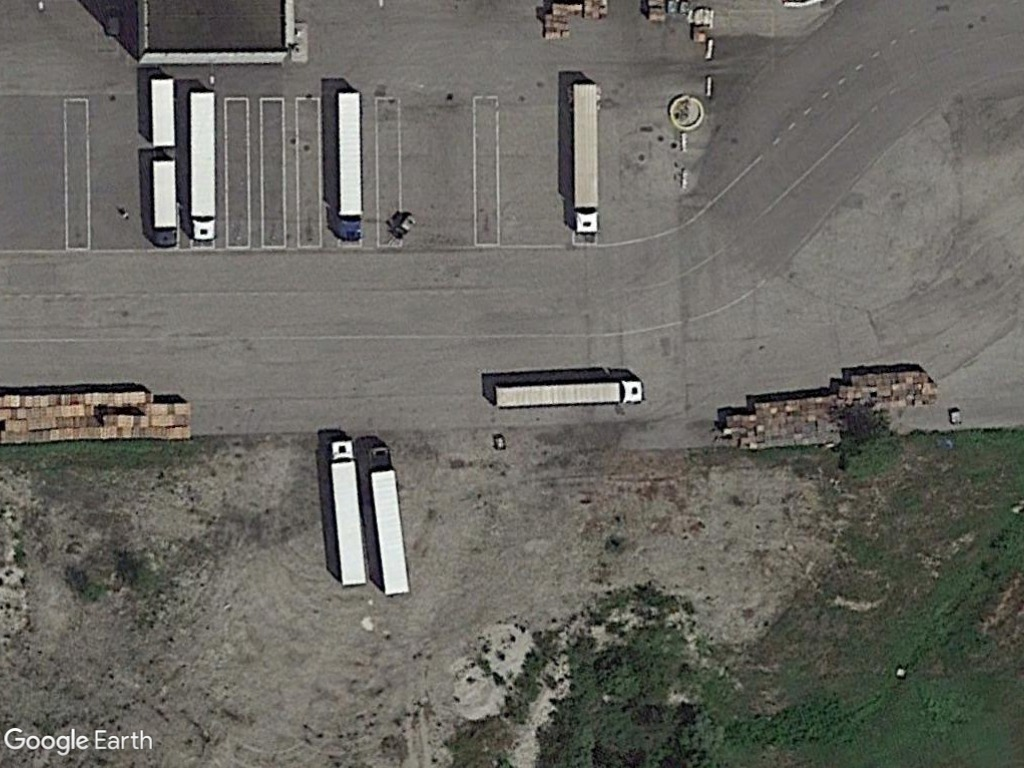longvehicle: (363, 441, 414, 600), (325, 434, 371, 591), (487, 371, 647, 410), (568, 75, 604, 238), (330, 86, 367, 243), (184, 83, 218, 245), (147, 74, 179, 150)
truck: (149, 154, 180, 253)
